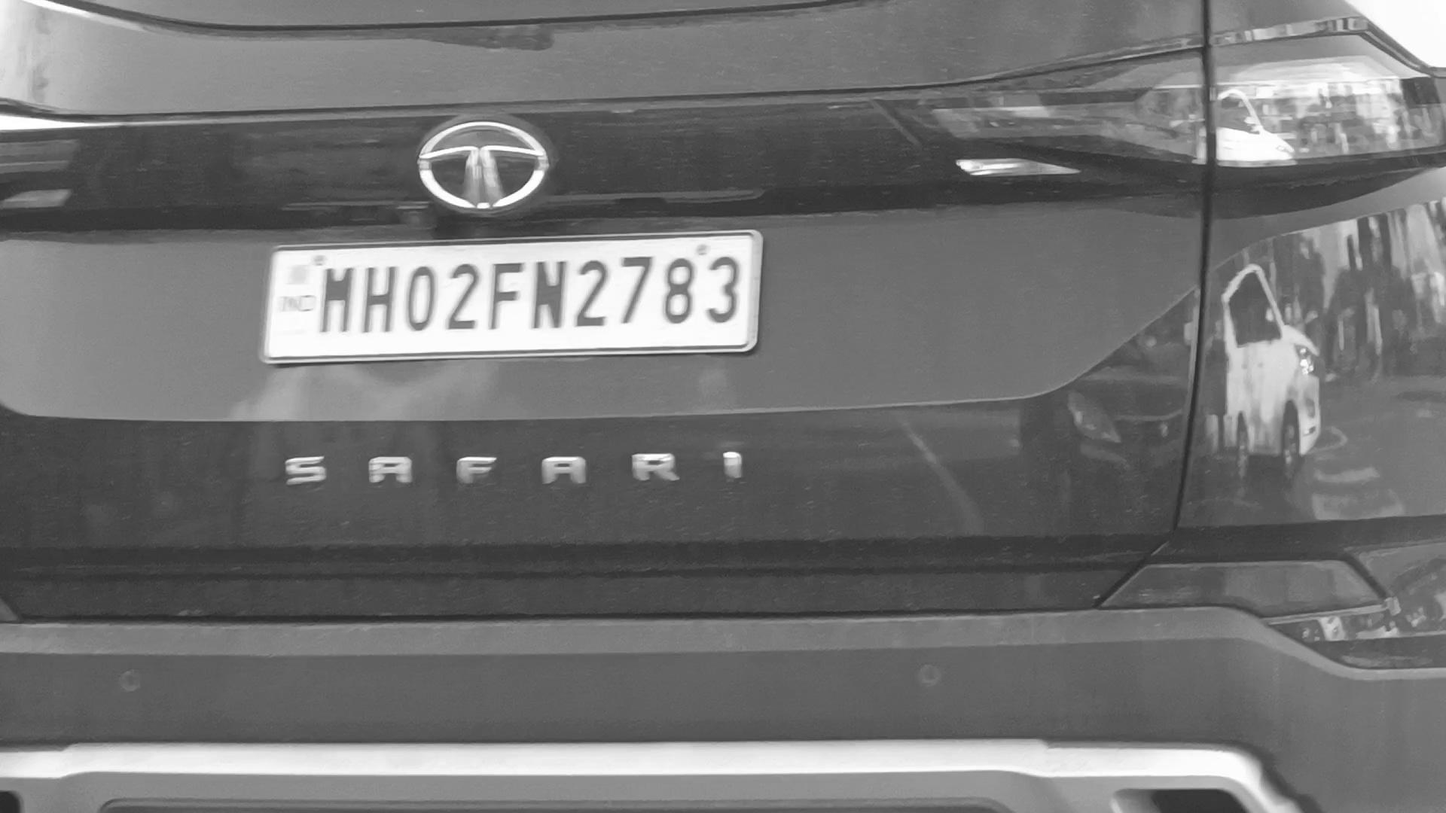number_plate: (272, 250, 760, 355)
